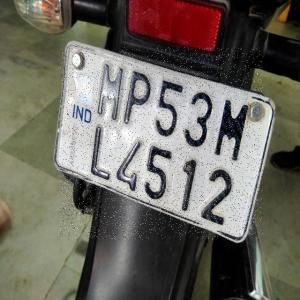Plate: (60, 48, 262, 240)
